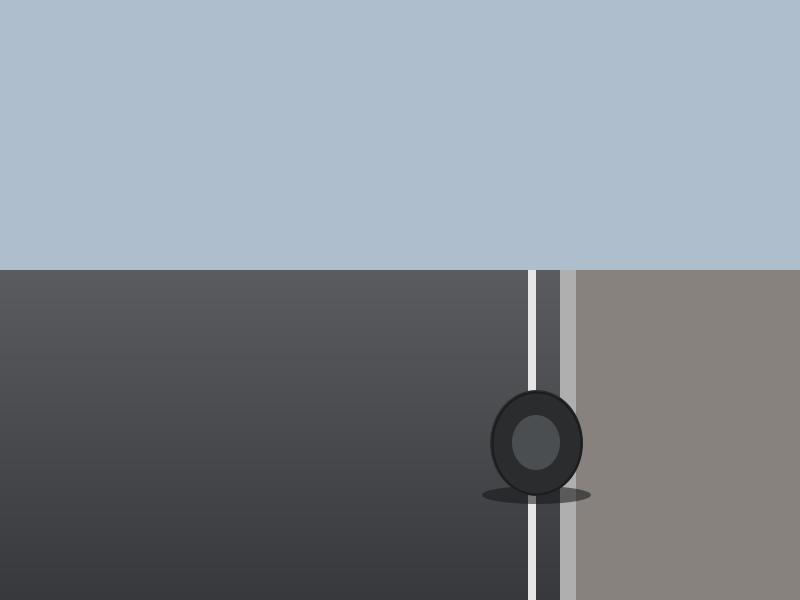ROAD_OBSTACLE: (490, 390, 583, 496)
